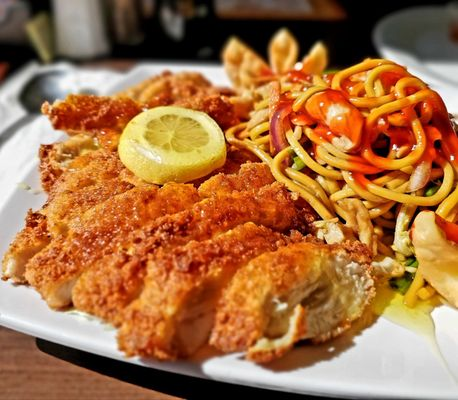pasta: (118, 106, 226, 186)
